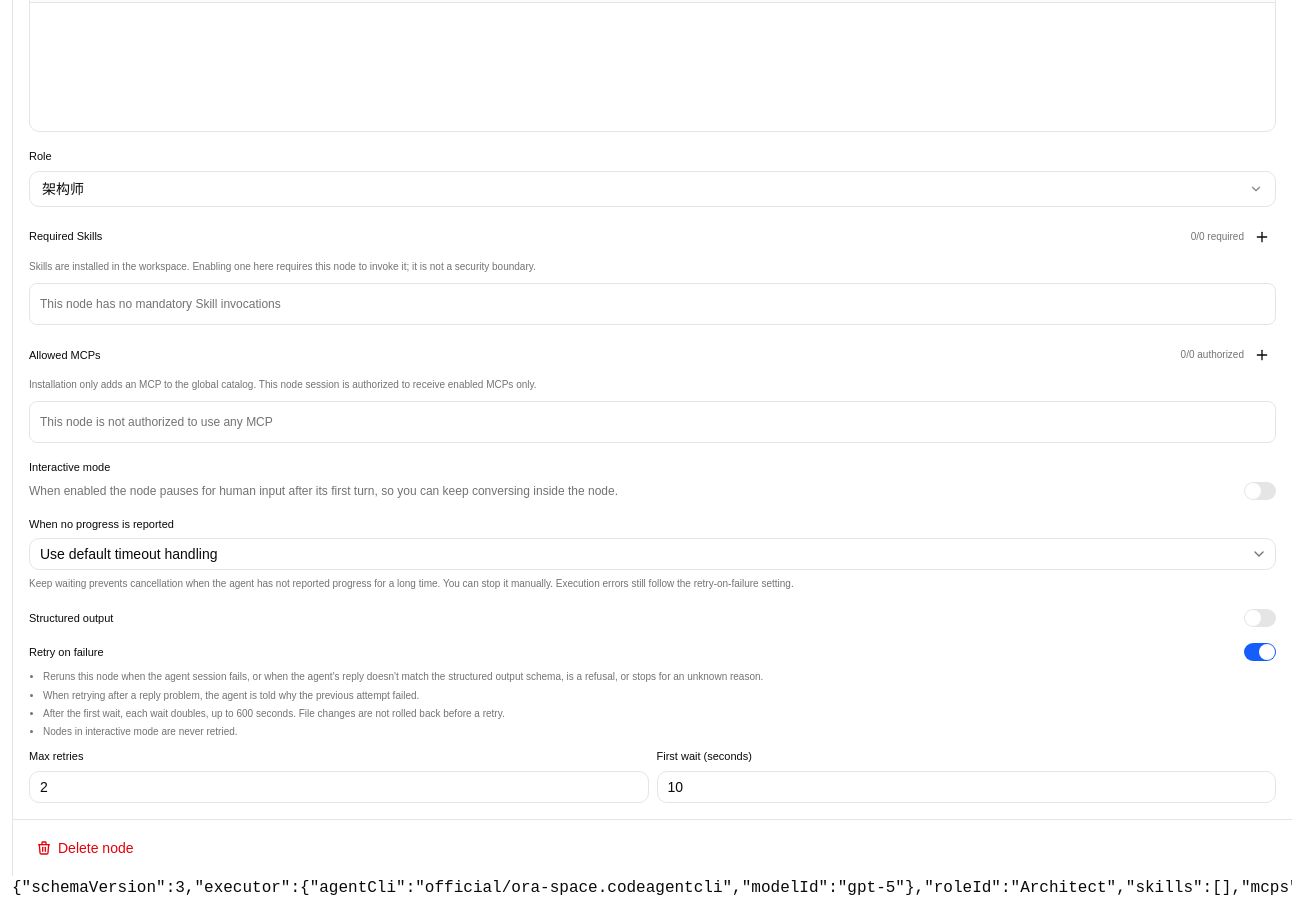
it: Agent retry settings › keeps Max retries = -1 out of the graph and explains why
(page scrolled)
Replace the text in the number field labelled "Max retries" with "-1". click: (339, 787)
box: [29, 771, 648, 803]
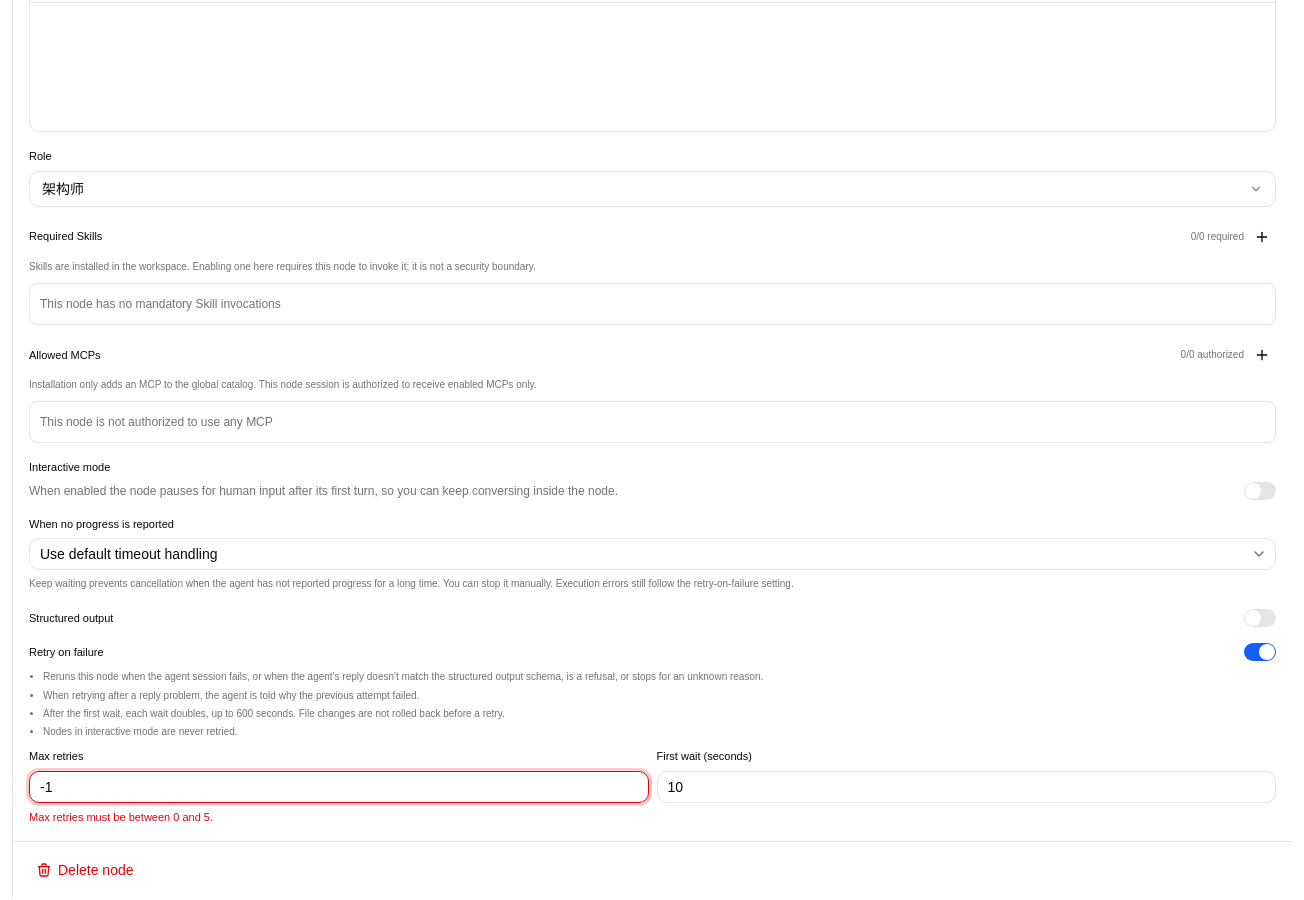
Expected: the message reads "Max retries must be between 0 and 5.", [29, 811, 213, 823]
